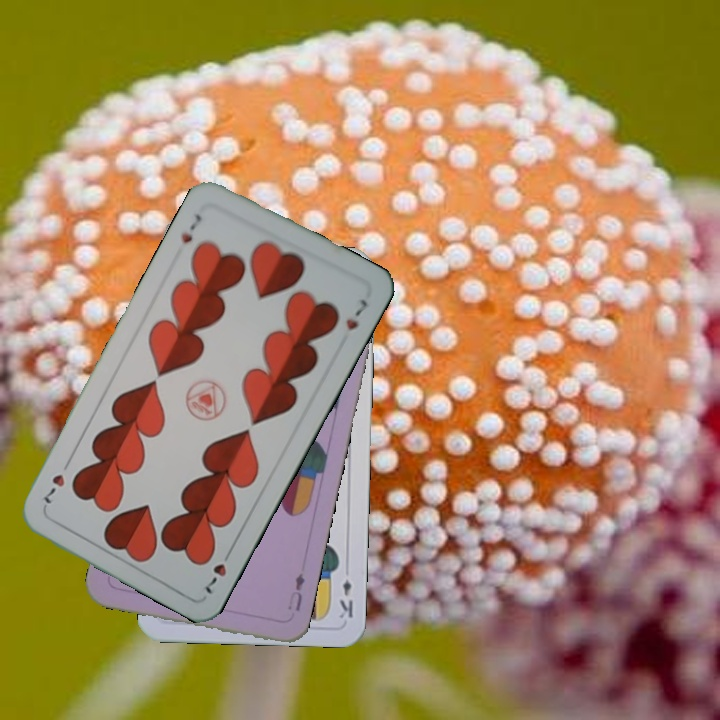EK: (335, 576, 356, 621)
EU: (284, 569, 307, 614)
H7: (200, 544, 235, 597), (176, 210, 205, 247)
